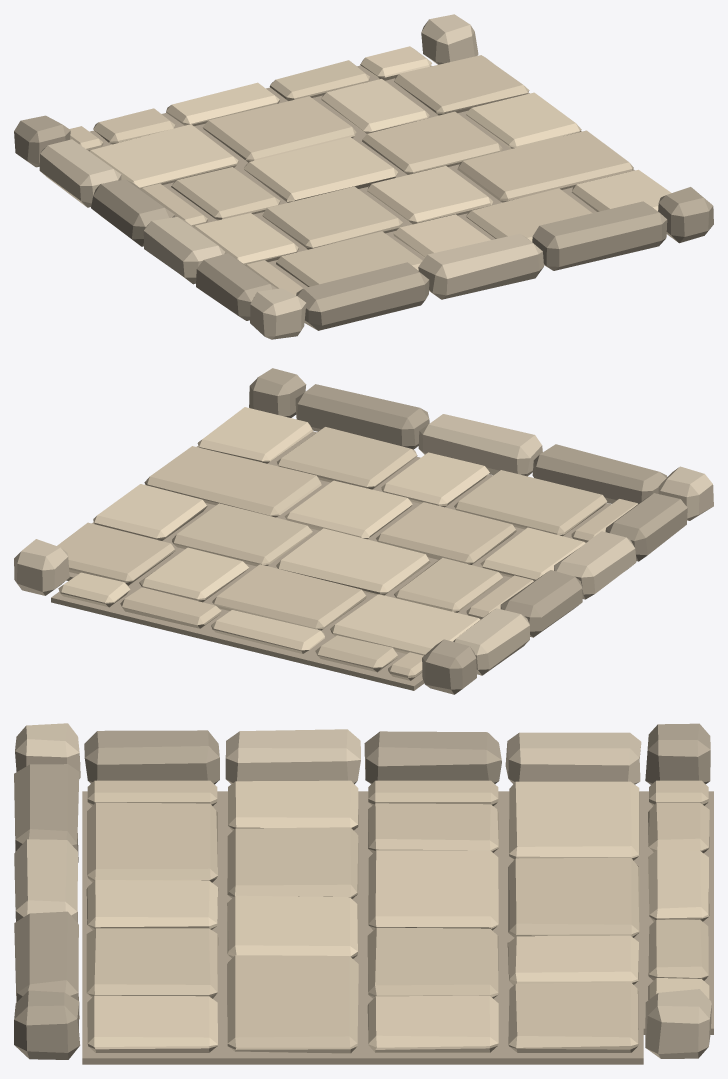
File: path_corner.glb
3 views of the same model, one above another, from view 1: azimuth 30°, elevation 25°; view 2: azimuth 150°, elevation 25°; view 3: azimuth 270°, elevation 25° (orthographic). The views are drawn at different scales.
Visible parts, largest first — view 1: path_corner; view 2: path_corner; view 3: path_corner.
Part boxes in pixels (x1,y1,x2,y2): path_corner: (14,14,713,339); path_corner: (14,368,713,694); path_corner: (14,723,713,1064).
Size of the model in its own units: 2 by 0.1719 by 1.99.
